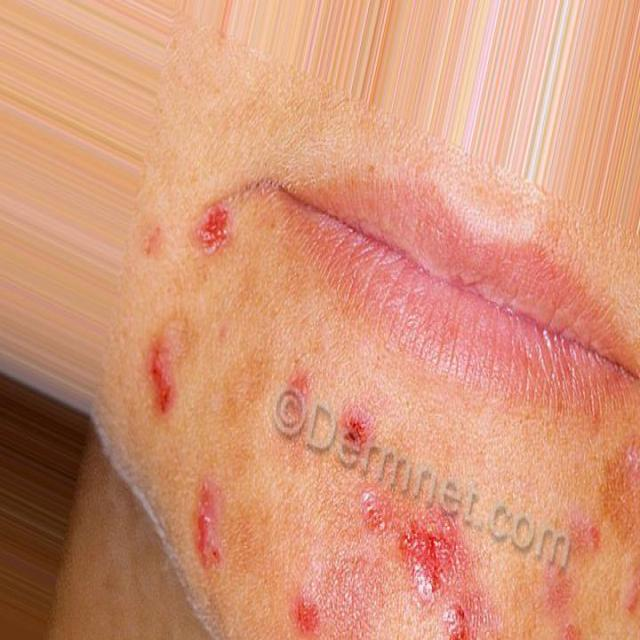acne: (191, 478, 231, 584), (136, 334, 181, 421), (199, 192, 244, 260), (412, 522, 468, 576), (354, 488, 404, 542), (569, 510, 614, 564), (549, 571, 579, 640), (448, 594, 490, 640), (346, 402, 378, 460), (285, 368, 323, 415), (285, 590, 322, 638), (624, 584, 640, 626)
